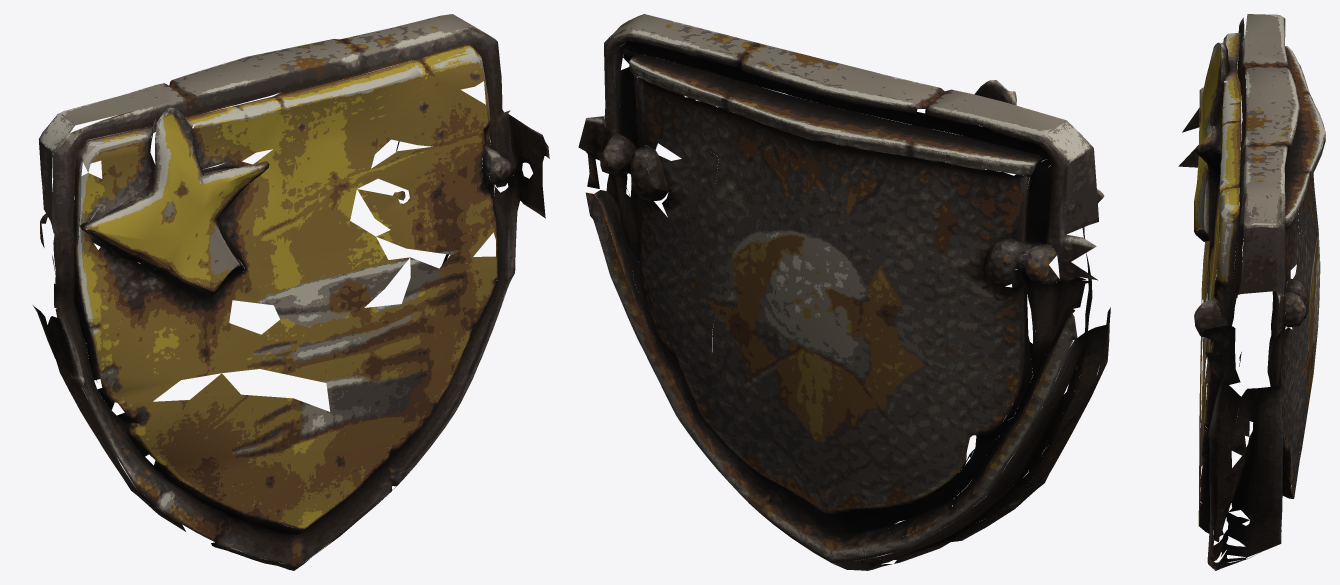
The model's file is pl_shield.glb.
3 renders of one model, left to right at view 1: azimuth 30°, elevation 25°; view 2: azimuth 150°, elevation 25°; view 3: azimuth 270°, elevation 25°, orthographic. The views are drawn at different scales.
Parts seen in each view (by area): view 1: pl_shield; view 2: pl_shield; view 3: pl_shield.
Boxes of the visible parts, x1=… form: pl_shield: x1=33, y1=14, x2=549, y2=570; pl_shield: x1=578, y1=14, x2=1110, y2=570; pl_shield: x1=1178, y1=14, x2=1325, y2=570.
Bounding box in the file's own units: 0.1528 × 0.1473 × 0.0445.
Materials: 1 (1 with a texture image).
